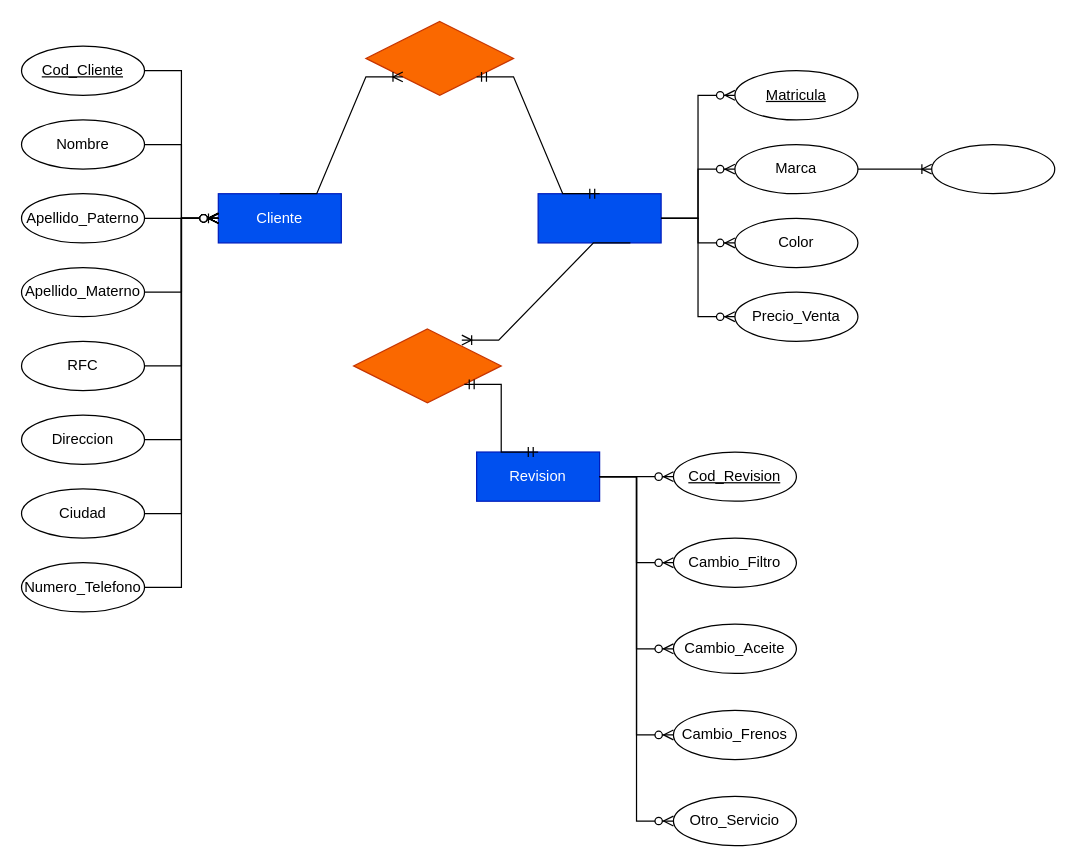
Some shapes in this 1076 by 867 pixel diagram are drawn without their labels. The shapes that lost their labels are listed below. From the top down, each one's box as (x1, y1, x2, y2) in pixels, then its label:
(365, 20, 514, 95): Compra
(930, 143, 1055, 194): Modelo
(537, 192, 661, 243): Coche
(352, 328, 501, 403): Realiza
